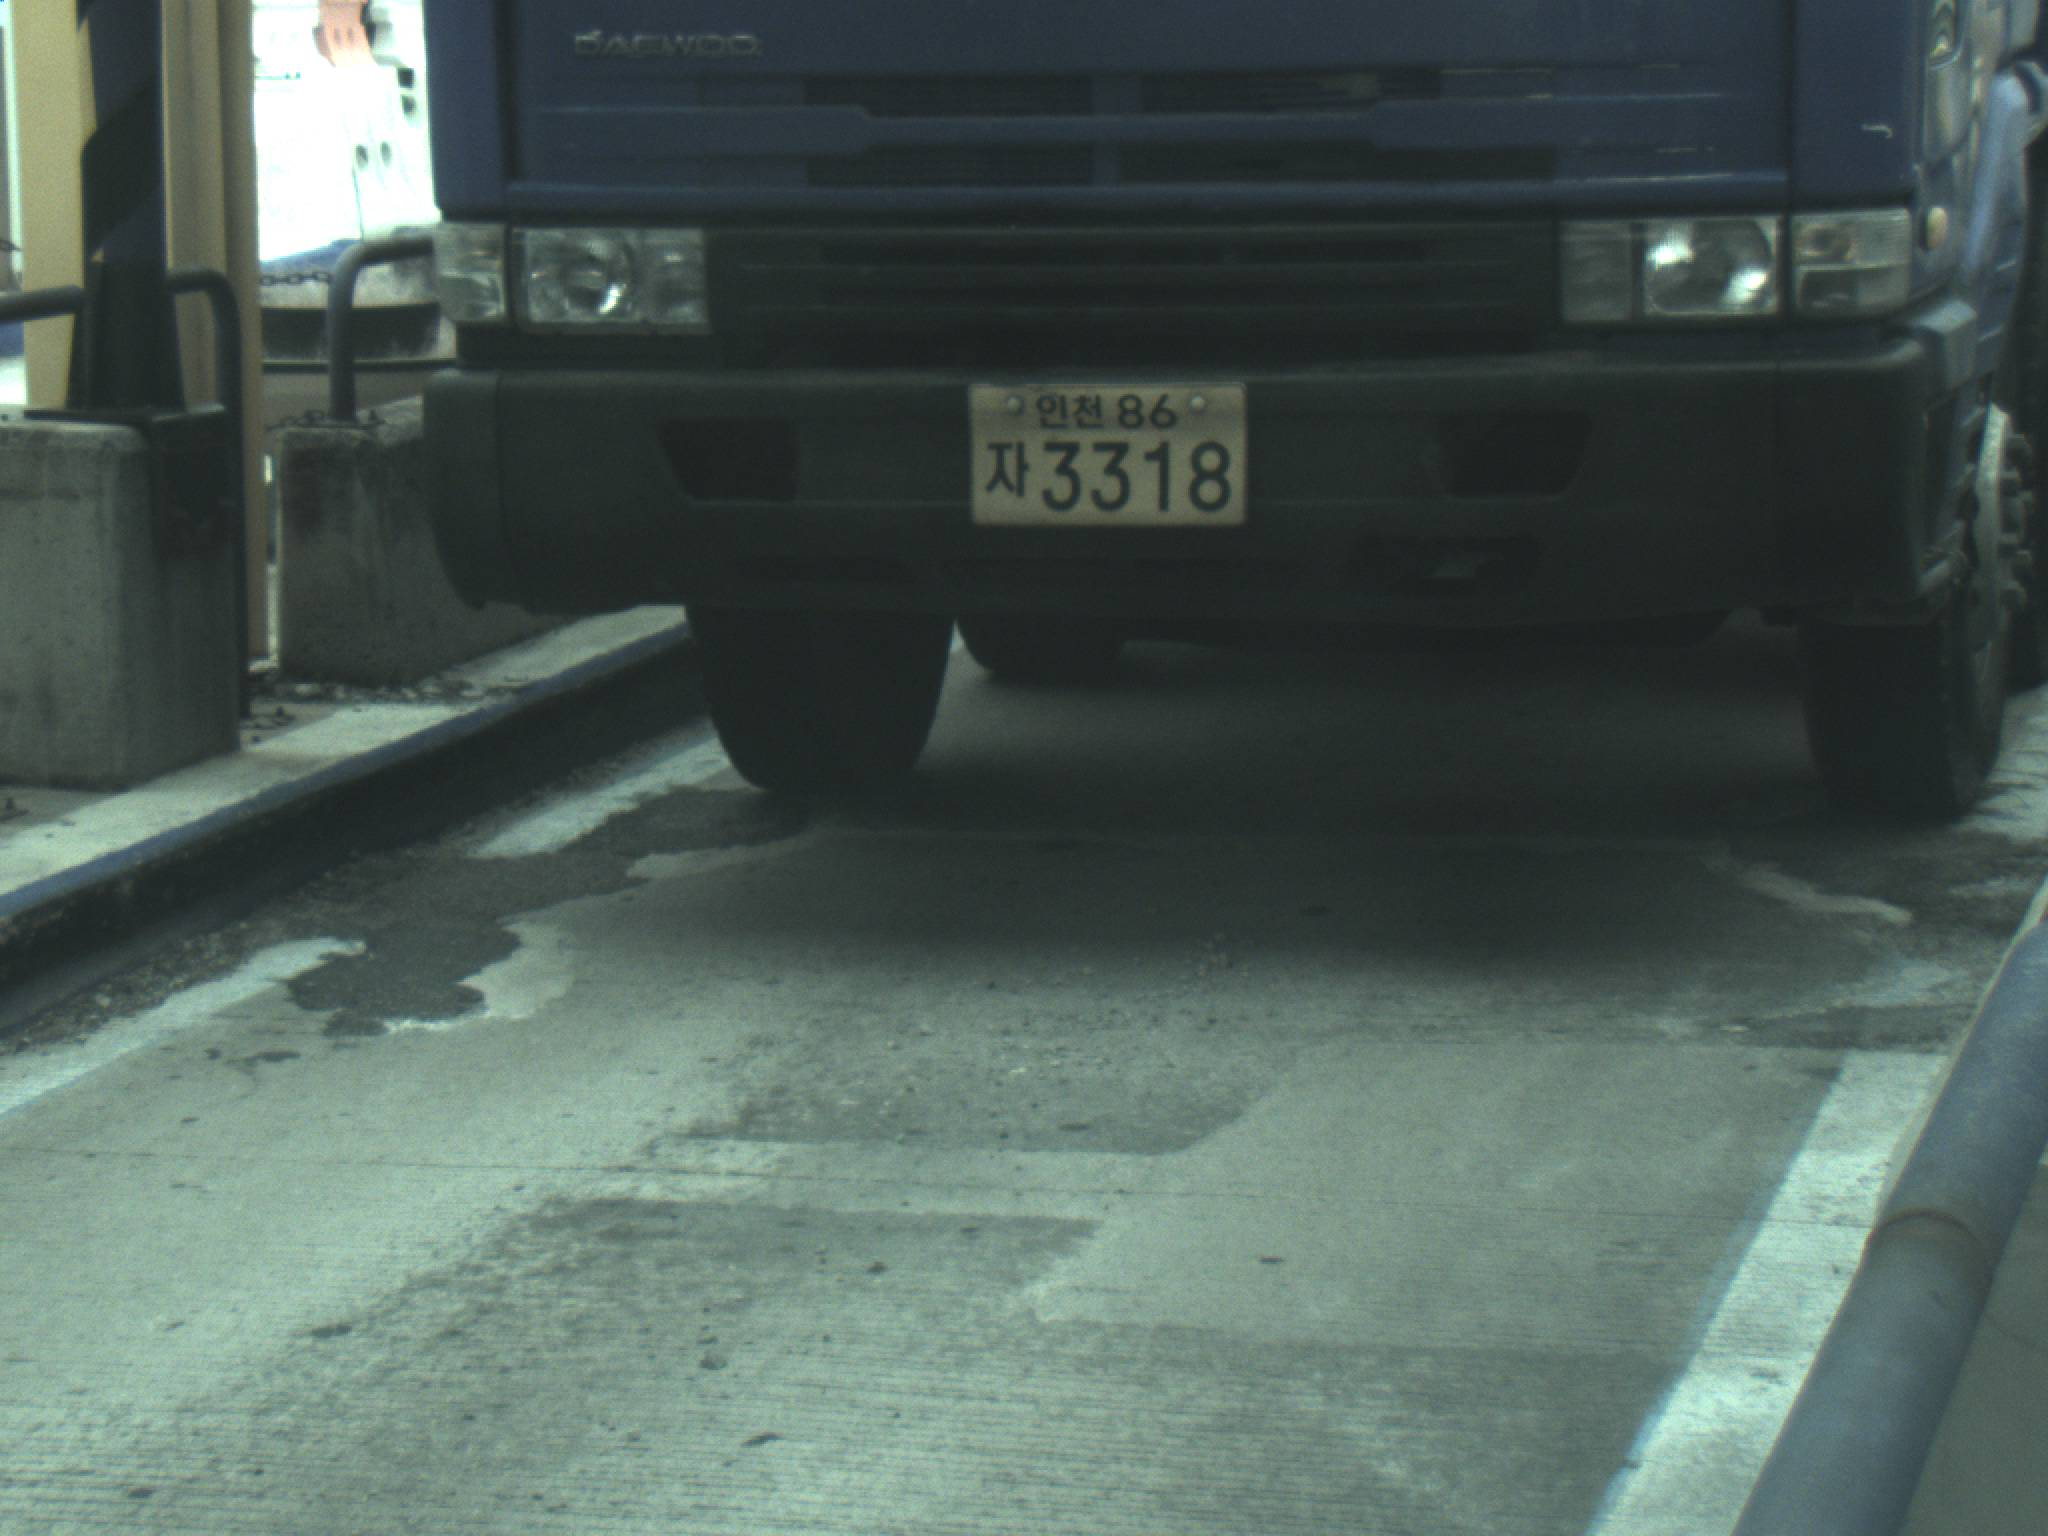car: (414, 1, 2046, 826)
plate: (967, 381, 1250, 528)
